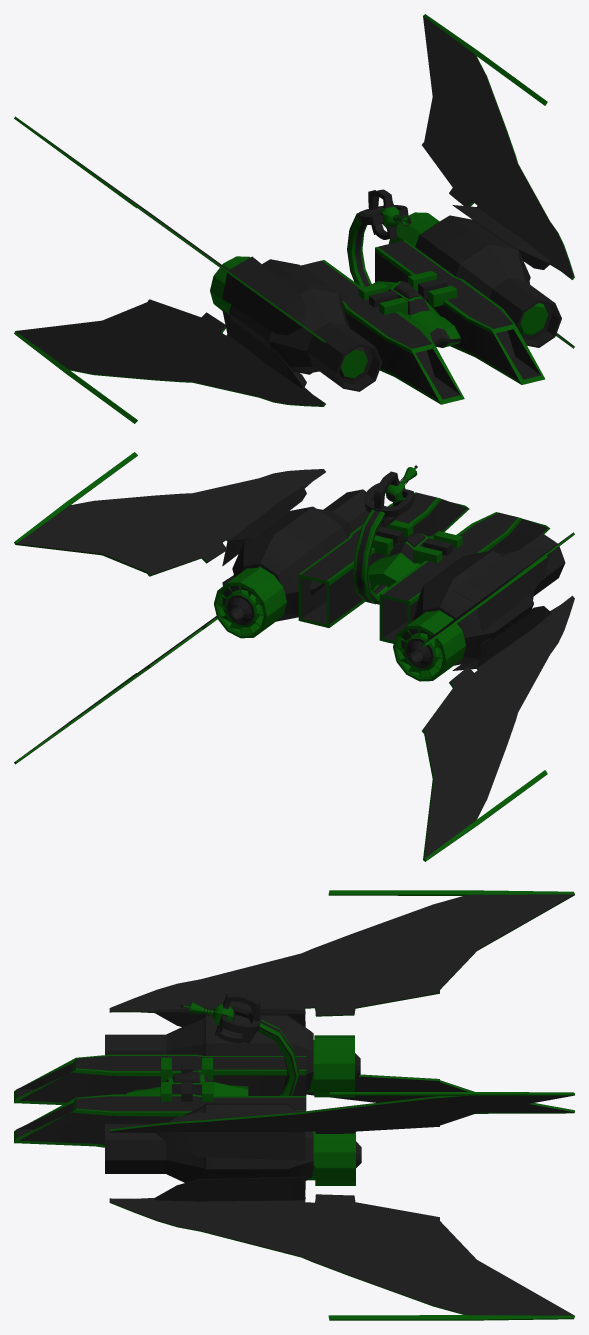
The model's file is Vehicle_002.fbx.
3 views of the same model, one above another, from view 1: azimuth 30°, elevation 25°; view 2: azimuth 150°, elevation 25°; view 3: azimuth 270°, elevation 25° (orthographic).
Parts seen in each view (by area): view 1: M3_WingRight_01, M3_WingLeft_01, M3_JetEngineRight, M3_JetEngineLeft, M3_VaccumLeft, M3_VaccumRight, M3_WingRight_02, M3_Base, M3_TetherBeam, M3_JetExhaustLeft, M3_JetExhaustRight; view 2: M3_WingLeft_01, M3_WingRight_01, M3_JetEngineLeft, M3_VaccumLeft, M3_JetEngineRight, M3_VaccumRight, M3_WingRight_02, M3_JetExhaustLeft, M3_JetExhaustRight, M3_Base, M3_TetherBeam, M3_WingLeft_02; view 3: M3_WingLeft_02, M3_WingRight_02, M3_WingLeft_01, M3_VaccumRight, M3_JetEngineLeft, M3_VaccumLeft, M3_JetEngineRight, M3_JetExhaustRight, M3_WingRight_01, M3_JetExhaustLeft, M3_Base, M3_TetherBeam.
Part boxes in pixels (<box>): M3_WingRight_01: <box>14,299,325,423</box>; M3_WingLeft_01: <box>422,14,574,279</box>; M3_JetEngineRight: <box>229,259,382,391</box>; M3_JetEngineLeft: <box>415,215,561,347</box>; M3_VaccumLeft: <box>375,240,544,384</box>; M3_VaccumRight: <box>301,260,464,404</box>; M3_WingRight_02: <box>14,116,325,343</box>; M3_Base: <box>347,213,460,347</box>; M3_TetherBeam: <box>358,189,411,239</box>; M3_JetExhaustLeft: <box>389,212,439,246</box>; M3_JetExhaustRight: <box>210,256,250,314</box>; M3_WingLeft_01: <box>14,452,325,576</box>; M3_WingRight_01: <box>422,596,574,861</box>; M3_JetEngineLeft: <box>232,489,374,621</box>; M3_VaccumLeft: <box>298,492,469,627</box>; M3_JetEngineRight: <box>413,533,565,665</box>; M3_VaccumRight: <box>379,512,550,643</box>; M3_WingRight_02: <box>421,532,574,647</box>; M3_JetExhaustLeft: <box>214,566,286,638</box>; M3_JetExhaustRight: <box>393,610,465,681</box>; M3_Base: <box>353,509,433,604</box>; M3_TetherBeam: <box>364,465,417,527</box>; M3_WingLeft_02: <box>14,575,234,764</box>; M3_WingLeft_02: <box>109,1176,574,1320</box>; M3_WingRight_02: <box>109,890,574,1026</box>; M3_WingLeft_01: <box>109,1092,574,1160</box>; M3_VaccumRight: <box>14,1054,306,1104</box>; M3_JetEngineLeft: <box>105,1103,313,1182</box>; M3_VaccumLeft: <box>14,1094,306,1147</box>; M3_JetEngineRight: <box>105,1014,313,1091</box>; M3_JetExhaustRight: <box>306,1035,360,1097</box>; M3_WingRight_01: <box>306,1074,574,1113</box>; M3_JetExhaustLeft: <box>307,1131,361,1185</box>; M3_Base: <box>125,1019,298,1095</box>; M3_TetherBeam: <box>180,993,260,1043</box>.
Size of the model in its own units: 17.31 by 8.98 by 19.96.
